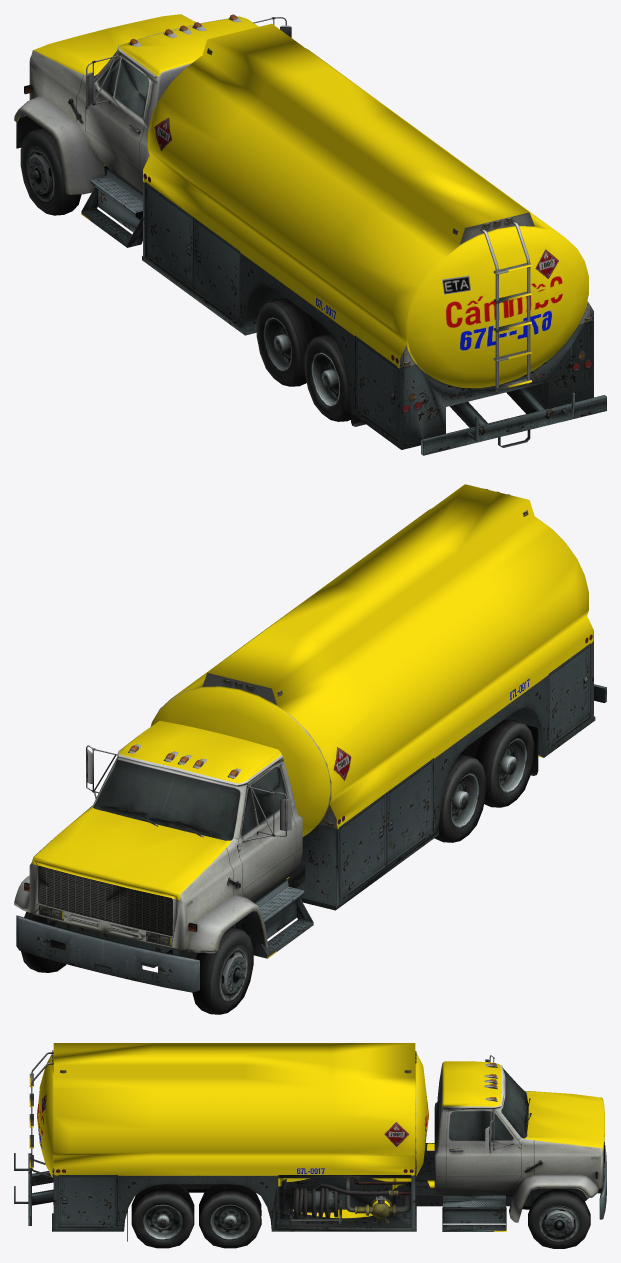
The model's file is airport_fuel_truck.glb.
3 views of the same model, one above another, from view 1: azimuth 30°, elevation 25°; view 2: azimuth 150°, elevation 25°; view 3: azimuth 270°, elevation 25° (orthographic). The views are drawn at different scales.
Visible parts, largest first — view 1: Object_3; view 2: Object_3; view 3: Object_3.
Part boxes in pixels (x1,y1,x2,y2): Object_3: (14,14,606,455); Object_3: (14,484,606,1014); Object_3: (14,1043,606,1248).
Bounding box in the file's own units: 123 × 131 × 430.
2 materials, 1 textured.
